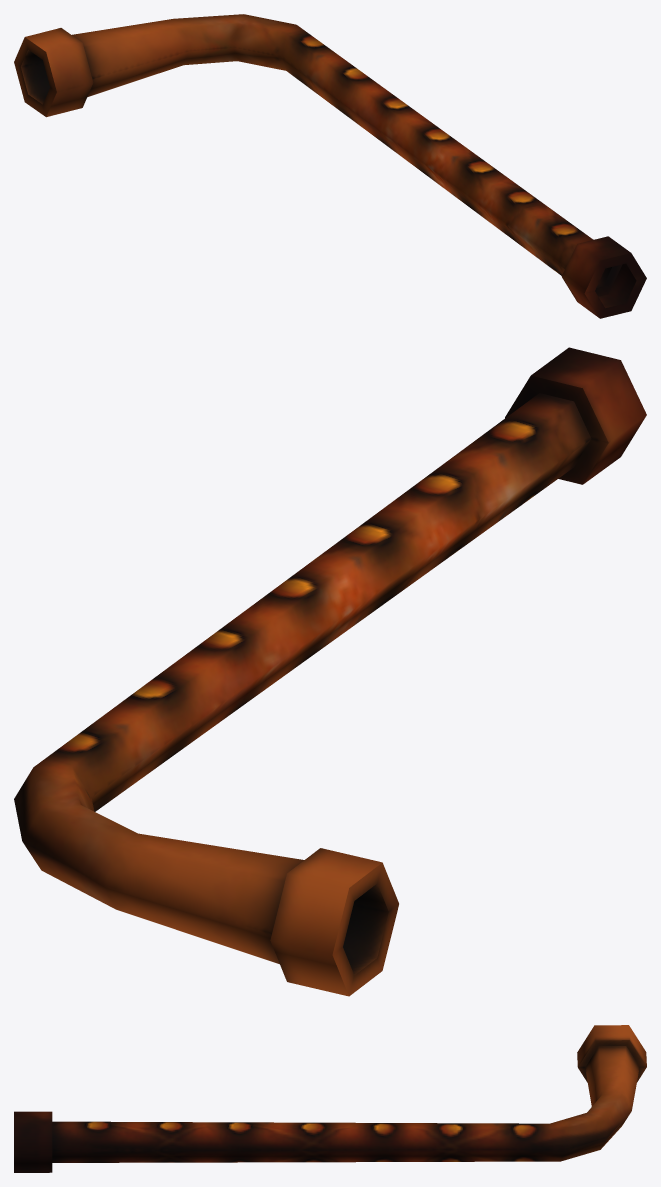
File: MESH_AMB35_tuyau9.fbx
3 views of the same model, one above another, from view 1: azimuth 30°, elevation 25°; view 2: azimuth 150°, elevation 25°; view 3: azimuth 270°, elevation 25° (orthographic). The views are drawn at different scales.
Parts seen in each view (by area): view 1: tuyau9; view 2: tuyau9; view 3: tuyau9.
Boxes of the visible parts, <box> form: tuyau9: <box>14,14,646,318</box>; tuyau9: <box>14,347,646,996</box>; tuyau9: <box>14,1025,646,1172</box>.
Bounding box in the file's own units: 9.69 × 2.38 × 25.19.
1 material, 1 textured.
